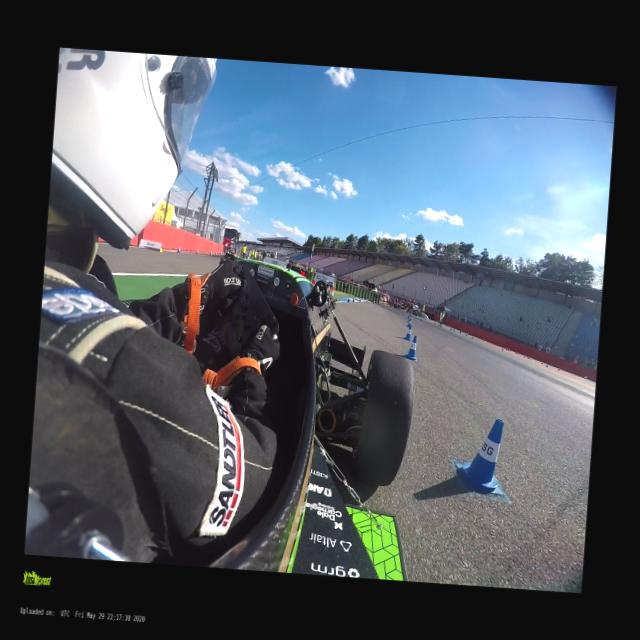blue_cone: (457, 415, 507, 494), (404, 334, 418, 362), (404, 324, 412, 340), (406, 318, 412, 327), (176, 245, 181, 253), (346, 294, 351, 302), (358, 297, 361, 302), (196, 248, 198, 254), (365, 298, 368, 302), (373, 298, 375, 304), (210, 250, 212, 256), (352, 296, 354, 302), (408, 316, 410, 322)
yellow_cone: (158, 242, 163, 252)
